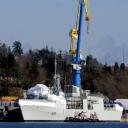Fragata: (15, 57, 125, 124)
